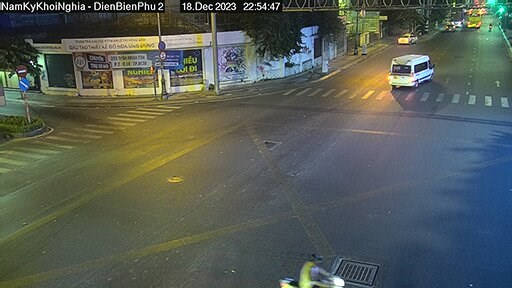car: (389, 53, 438, 89)
